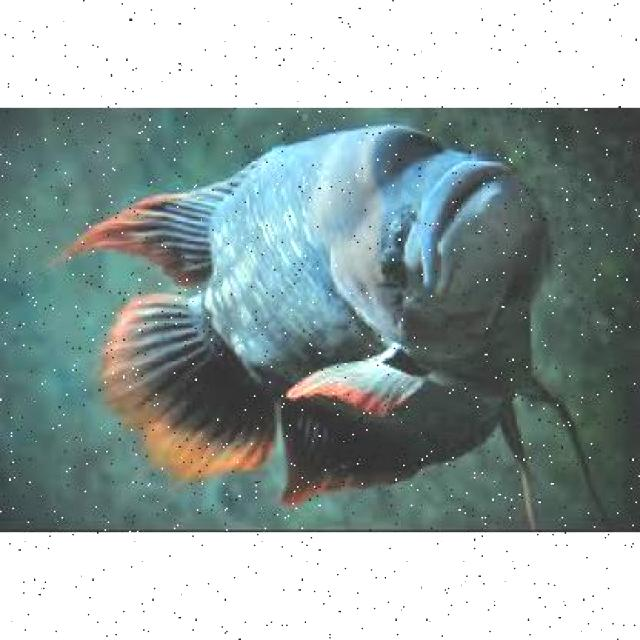gurame: (97, 115, 556, 498)
